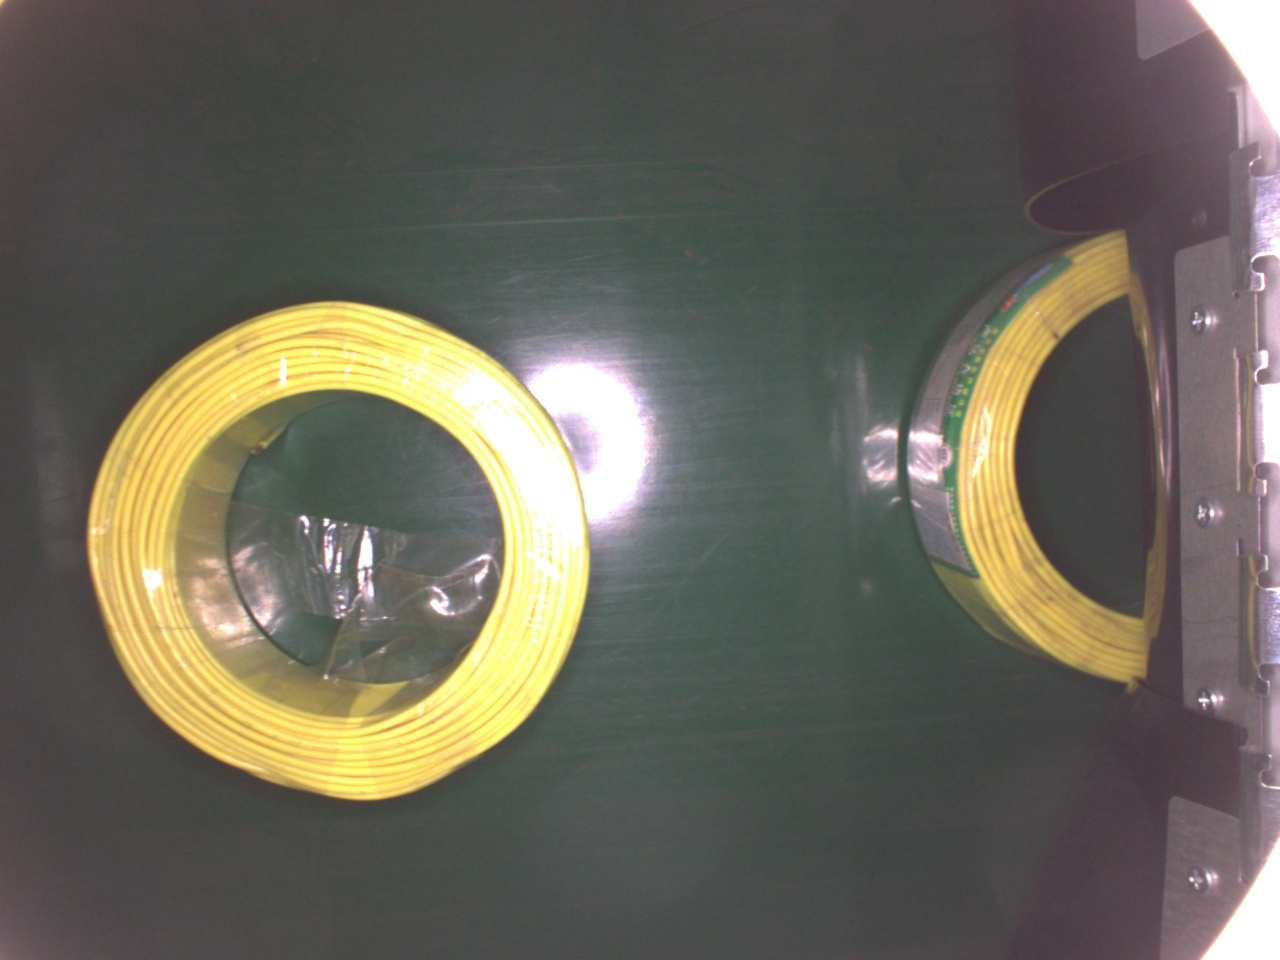yellow: (85, 297, 591, 802), (903, 225, 1148, 678)
